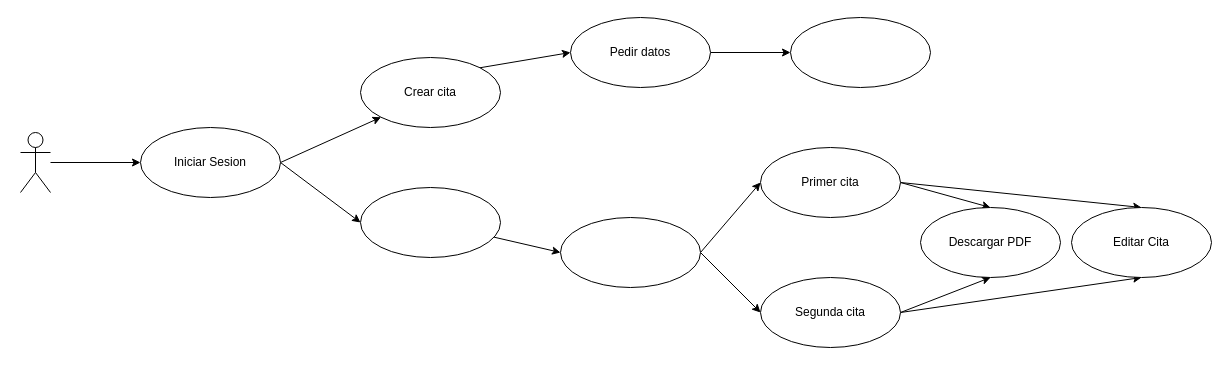
The diagram is 1229 pixels wide and 365 high, and some of its shapes have lost their labels. The centre of each missing label's shape, as x and y in pixels:
"Agendar" goes at point 860,52.
"Gestor" goes at point 35,162.
"Seguimiento de citas" goes at point 630,252.
"Ver citas" goes at point 430,222.
